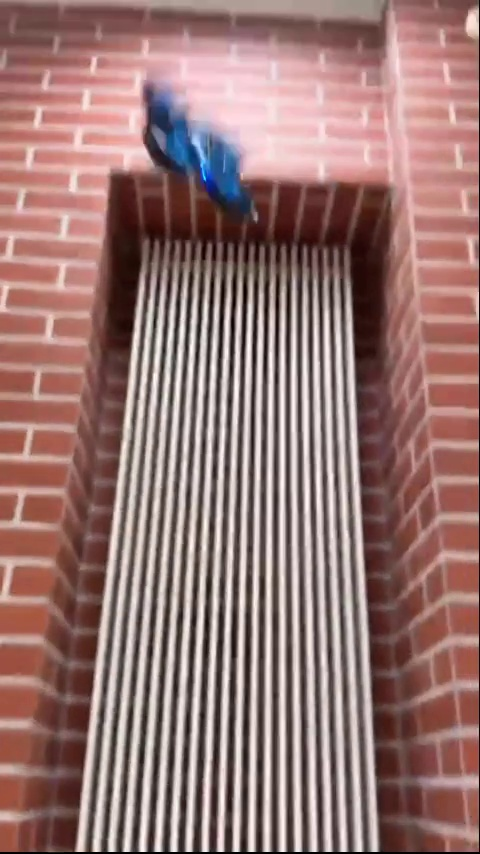drone: (136, 85, 259, 227)
